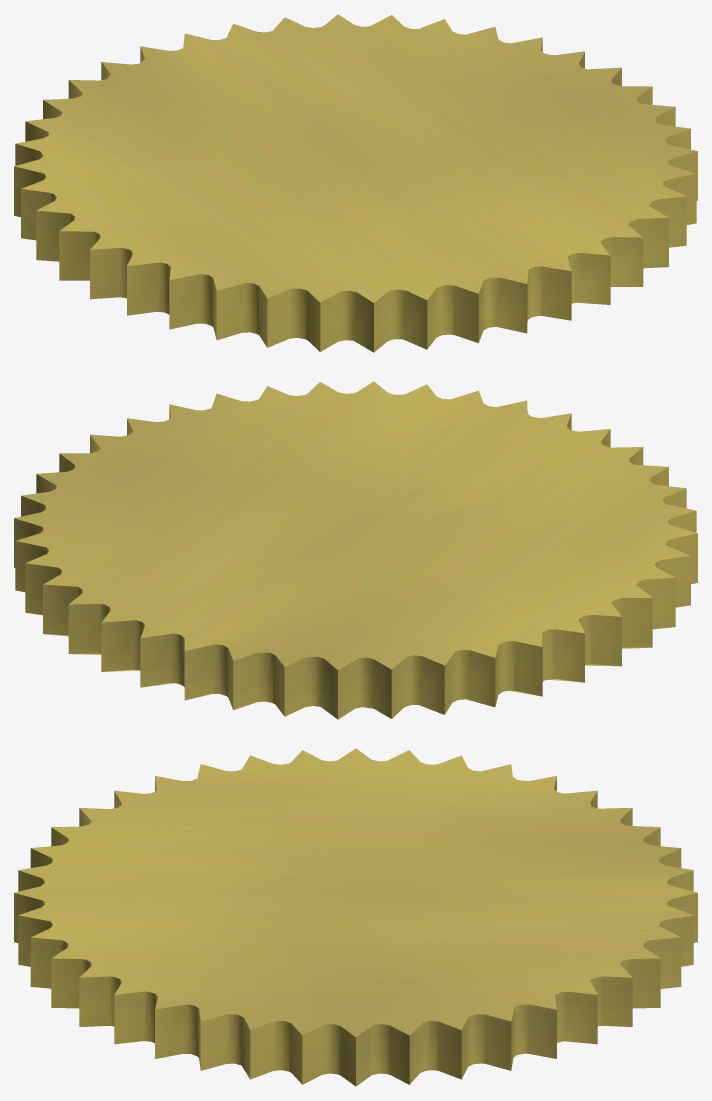
Rendered from Sprocket3Spoke040.fbx.
3 renders of one model, top to bottom at view 1: azimuth 30°, elevation 25°; view 2: azimuth 150°, elevation 25°; view 3: azimuth 270°, elevation 25°, orthographic.
Visible parts, largest first — view 1: Sprocket3Spoke040; view 2: Sprocket3Spoke040; view 3: Sprocket3Spoke040.
Part boxes in pixels (bbox=[...]): Sprocket3Spoke040: bbox=[14, 14, 697, 352]; Sprocket3Spoke040: bbox=[14, 381, 697, 719]; Sprocket3Spoke040: bbox=[14, 748, 697, 1086].
Size of the model in its own units: 247 by 19.69 by 247.
